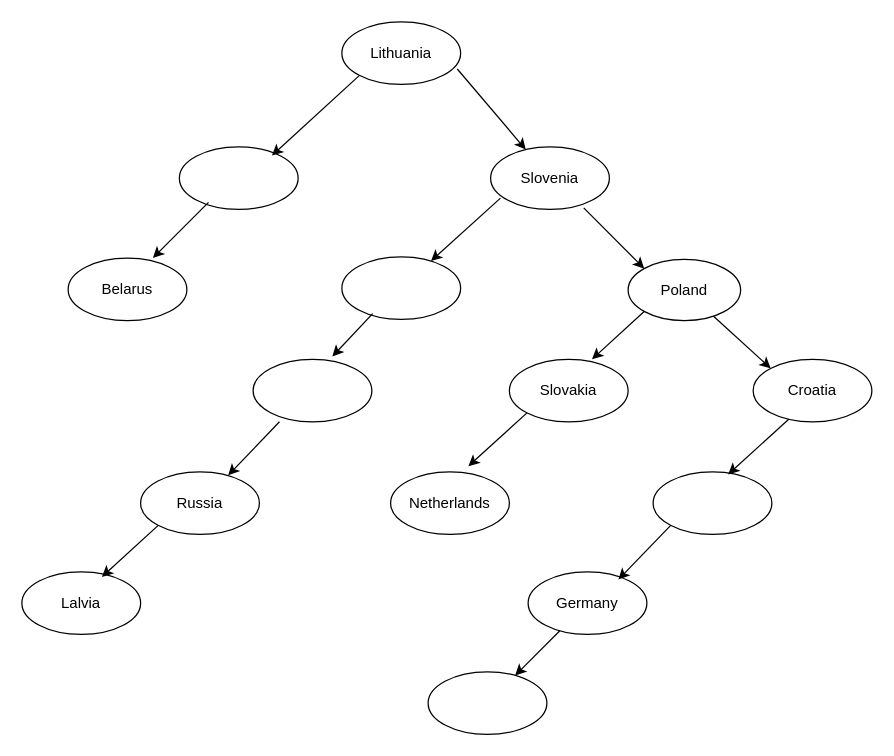
Some shapes in this 894 by 756 pixel diagram are drawn without their labels. The box of each missing label's shape, as (x1, y1, x2, y2) in pixels:
Bulgaria: (652, 471, 772, 534)
Czechia: (252, 358, 372, 422)
Hungary: (341, 256, 461, 319)
Moldova: (427, 671, 547, 734)
Romania: (178, 146, 298, 209)
